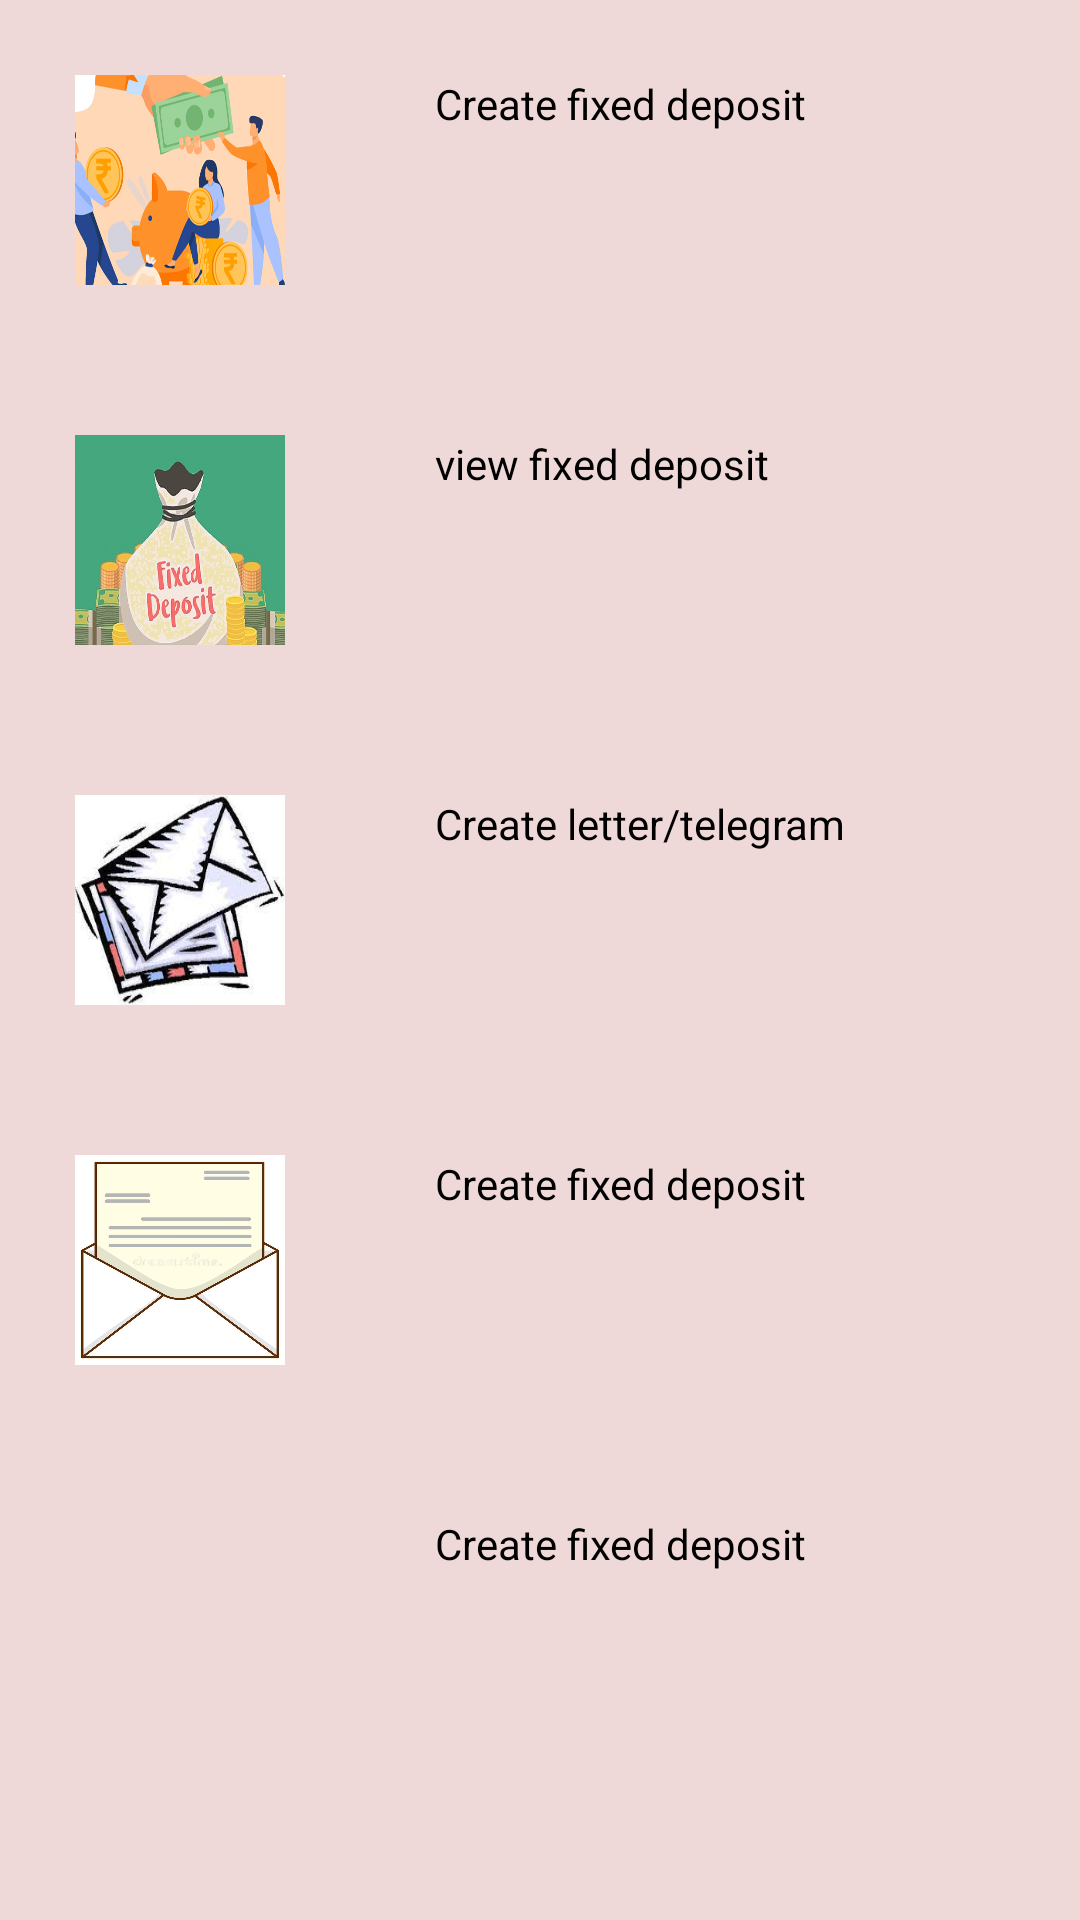

Point at icon controls on the screen. Image size 1080px×1920px, points as [x,y].
viewletter: [180,1260]
